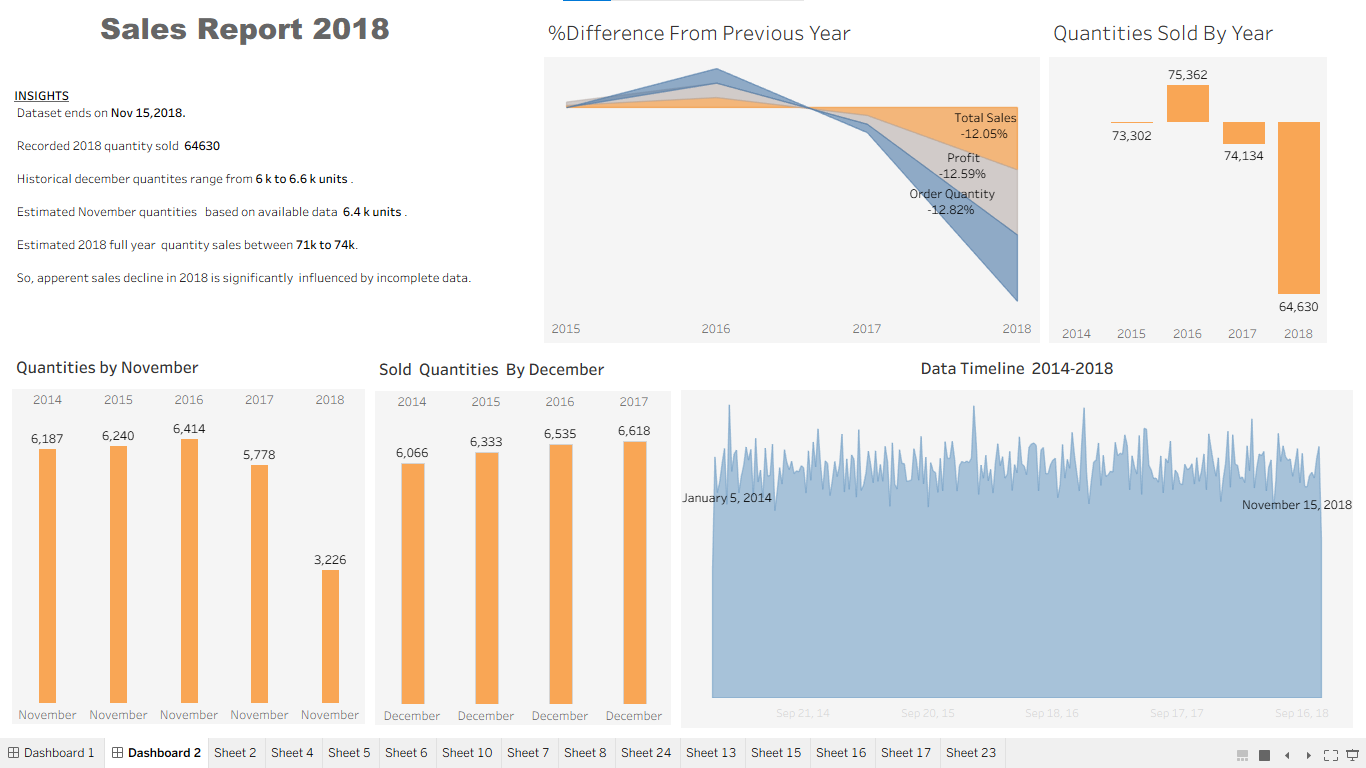

Layout of this report page (visuals, bound fields, positions):
{"tool":"tableau","page":{"name":"Sales Report 2018","canvas":[1000,1000],"units":"permille","ordinal":1},"visuals":[{"type":"worksheet","title":"Sheet 16","mark":"Area","cols":["OrderDate"],"box":[398.3,18.3,362.8,451.8]},{"type":"worksheet","title":"Sheet 15","mark":"Bar","rows":["Order Quantity"],"cols":["OrderDate"],"box":[768,18.6,203.5,445.9]},{"type":"text","box":[6.9,86.4,387,385.4]},{"type":"worksheet","title":"Sheet 23","mark":"Bar","rows":["Order Quantity"],"cols":["OrderDate","OrderDate"],"box":[8.7,476.4,258.9,518.6]},{"type":"worksheet","title":"Sheet 13","mark":"Area","rows":["Order Quantity","Order Quantity"],"cols":["OrderDate"],"box":[498.7,478,491.8,508.4]},{"type":"worksheet","title":"Sheet 17","mark":"Bar","cols":["OrderDate","OrderDate"],"box":[274.5,479.7,216.5,503.4]}]}

Visuals, with their boxes on the dashboard's canvas, which has no fixed pixel size, in thousandths of its width and height (x1, y1, x2, y2). These are canvas units, not pixel positions in the 1366x768 screenshot, which may show the page scaled, cropped or inside an application window:
"Sheet 16" worksheet (Area marks): BBox(398, 18, 761, 470)
"Sheet 15" worksheet (Bar marks): BBox(768, 19, 972, 464)
text: BBox(7, 86, 394, 472)
"Sheet 23" worksheet (Bar marks): BBox(9, 476, 268, 995)
"Sheet 13" worksheet (Area marks): BBox(499, 478, 990, 986)
"Sheet 17" worksheet (Bar marks): BBox(274, 480, 491, 983)
